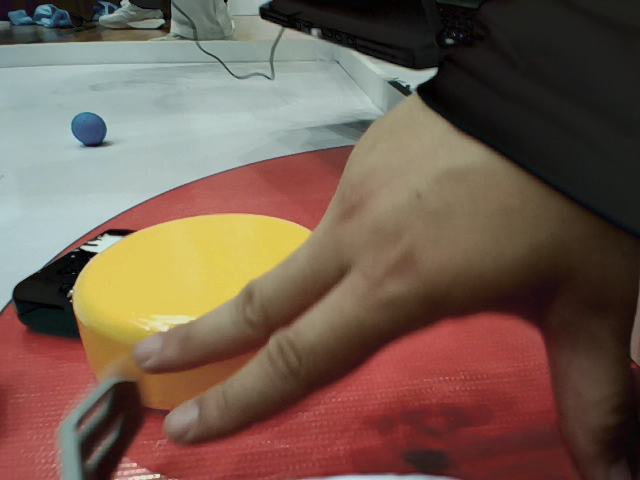black: (15, 206, 132, 354)
blue: (63, 109, 112, 153)
yellow: (81, 215, 391, 412)
